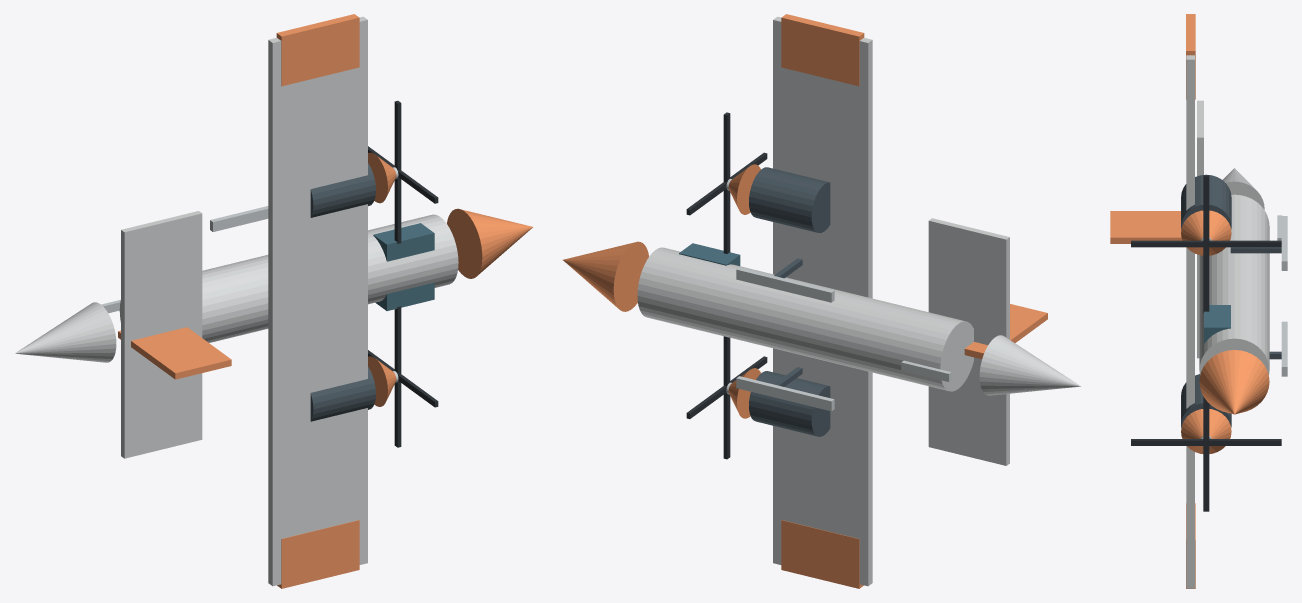
Rendered from amoh_polar_twin_utility_v18.glb.
3 views of the same model, side by side, from view 1: azimuth 30°, elevation 25°; view 2: azimuth 150°, elevation 25°; view 3: azimuth 270°, elevation 25° (orthographic). The views are drawn at different scales.
Parts seen in each view (by area): view 1: part_04, part_07, part_00, part_05, part_06, part_02, part_01, part_08, part_03, part_09, part_14, part_17 (+4 smaller); view 2: part_04, part_00, part_07, part_05, part_14, part_06, part_02, part_01, part_09, part_19, part_21, part_08 (+5 smaller); view 3: part_00, part_04, part_01, part_08, part_14, part_15, part_10, part_18, part_13, part_17, part_07, part_12 (+7 smaller).
Boxes of the visible parts, left/top/right/bottom form: part_04: left=268, top=16, right=367, bottom=586; part_07: left=121, top=211, right=202, bottom=458; part_00: left=119, top=214, right=458, bottom=342; part_05: left=276, top=14, right=359, bottom=86; part_06: left=277, top=520, right=359, bottom=588; part_02: left=15, top=302, right=116, bottom=362; part_01: left=447, top=208, right=532, bottom=278; part_08: left=118, top=327, right=231, bottom=379; part_03: left=373, top=223, right=434, bottom=310; part_09: left=310, top=367, right=375, bottom=421; part_14: left=310, top=163, right=375, bottom=217; part_17: left=394, top=100, right=401, bottom=243; part_04: left=773, top=16, right=872, bottom=586; part_00: left=637, top=247, right=973, bottom=391; part_07: left=928, top=218, right=1009, bottom=465; part_05: left=781, top=14, right=864, bottom=86; part_14: left=749, top=167, right=830, bottom=232; part_06: left=781, top=520, right=863, bottom=588; part_02: left=979, top=335, right=1080, bottom=395; part_01: left=563, top=241, right=648, bottom=311; part_09: left=749, top=371, right=830, bottom=436; part_19: left=736, top=376, right=834, bottom=411; part_21: left=736, top=267, right=834, bottom=302; part_08: left=964, top=304, right=1047, bottom=359; part_00: left=1199, top=194, right=1269, bottom=375; part_04: left=1186, top=55, right=1194, bottom=588; part_01: left=1199, top=350, right=1269, bottom=414; part_08: left=1110, top=211, right=1182, bottom=243; part_14: left=1181, top=174, right=1231, bottom=229; part_15: left=1181, top=210, right=1231, bottom=255; part_10: left=1181, top=409, right=1231, bottom=453; part_18: left=1131, top=240, right=1281, bottom=247; part_13: left=1131, top=439, right=1281, bottom=445; part_17: left=1203, top=175, right=1209, bottom=313; part_07: left=1197, top=100, right=1203, bottom=358; part_12: left=1203, top=396, right=1209, bottom=511.
Bounding box in the file's own units: 12 × 12.2 × 3.64.
